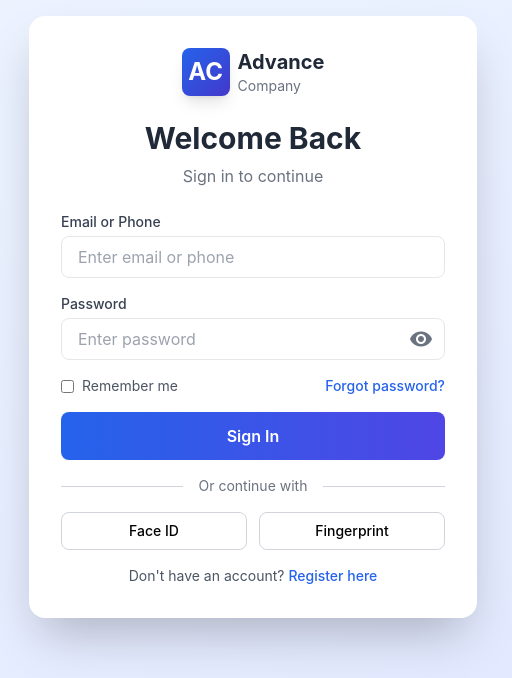
Login Page › toggles password visibility on eye-icon click
The width and height of the screenshot is (512, 678).
Type "mypassword" into the password field with test id "password-input".
click(253, 339); type("mypassword")  # box [61,318,445,360]
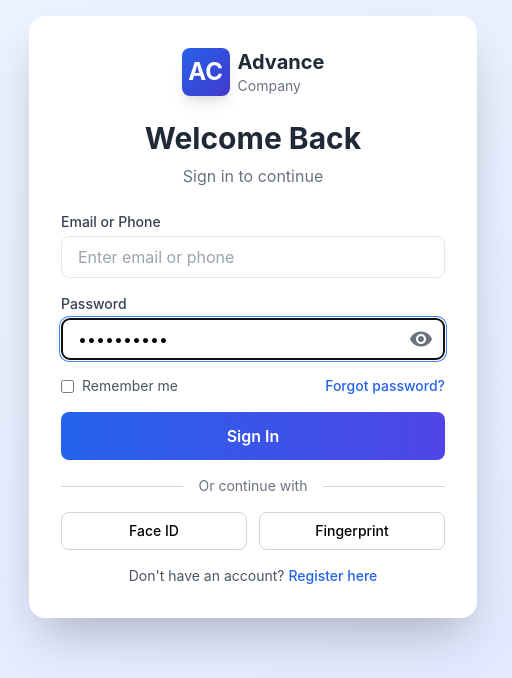
Click the 1st button.
click(421, 339)  # box [409,318,433,360]
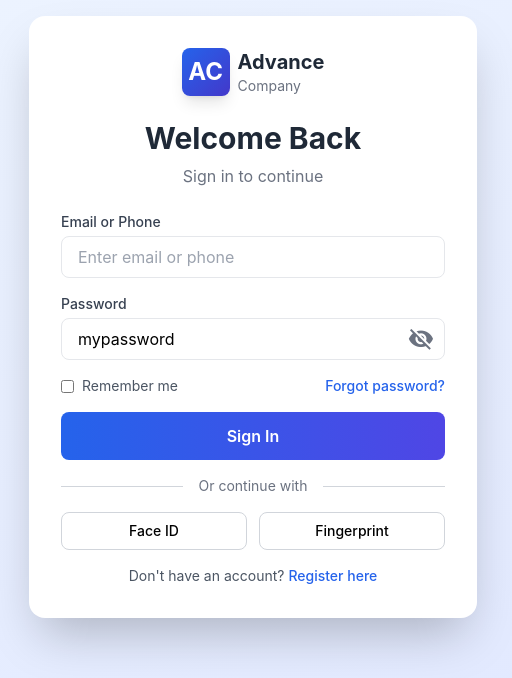
Now the field with test id "password-input" shows its text, box [61,318,445,360]
